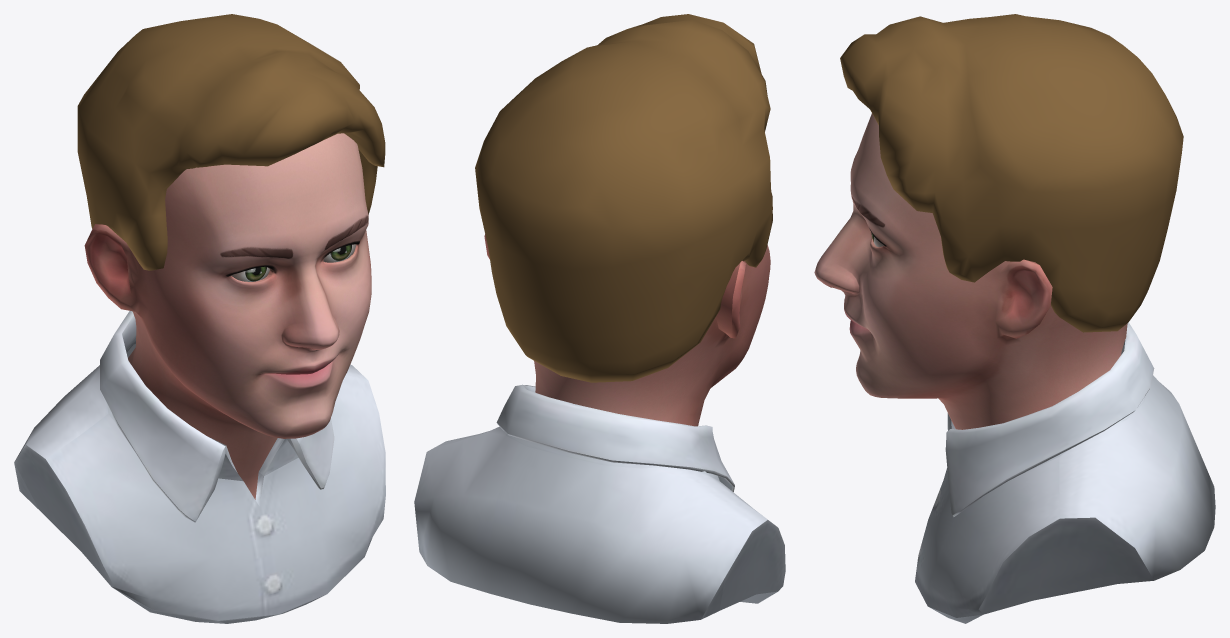
File: carlos.e341bd3f.glb
3 renders of one model, left to right at view 1: azimuth 30°, elevation 25°; view 2: azimuth 150°, elevation 25°; view 3: azimuth 270°, elevation 25°, orthographic.
Visible parts, largest first — view 1: Wolf3D_Shirt, Wolf3D_Head, Wolf3D_Hair; view 2: Wolf3D_Hair, Wolf3D_Shirt, Wolf3D_Head; view 3: Wolf3D_Hair, Wolf3D_Shirt, Wolf3D_Head.
Boxes of the visible parts, x1,y1,x2,y2 form: Wolf3D_Shirt: (14, 311, 385, 623); Wolf3D_Head: (84, 133, 371, 499); Wolf3D_Hair: (77, 14, 385, 270); Wolf3D_Hair: (475, 14, 772, 382); Wolf3D_Shirt: (414, 384, 785, 623); Wolf3D_Head: (484, 234, 770, 426); Wolf3D_Hair: (840, 14, 1183, 332); Wolf3D_Shirt: (915, 322, 1215, 623); Wolf3D_Head: (814, 113, 1127, 429).
Bounding box in the file's own units: 0.2312 × 0.3791 × 0.2448.
5 materials, 3 textured.
